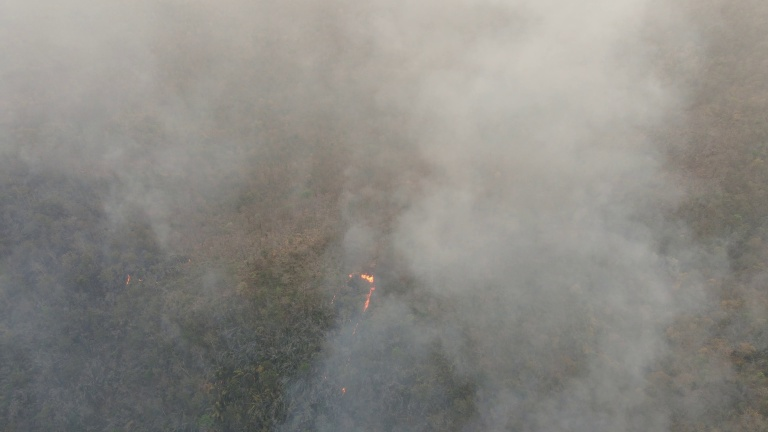fire: (328, 267, 373, 326), (123, 269, 141, 287), (337, 383, 353, 398)
smoke: (317, 1, 692, 428), (1, 147, 219, 426), (7, 1, 338, 158)
